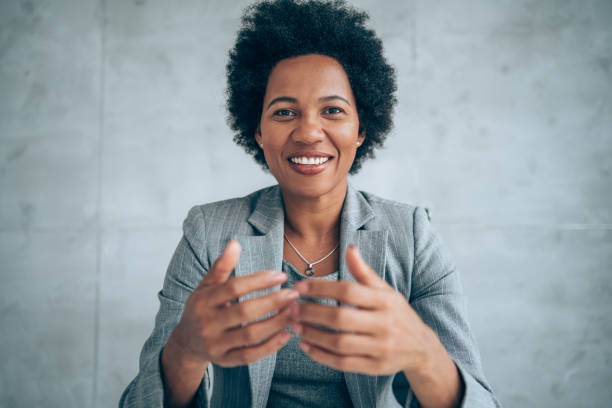without mask: (254, 61, 364, 201)
